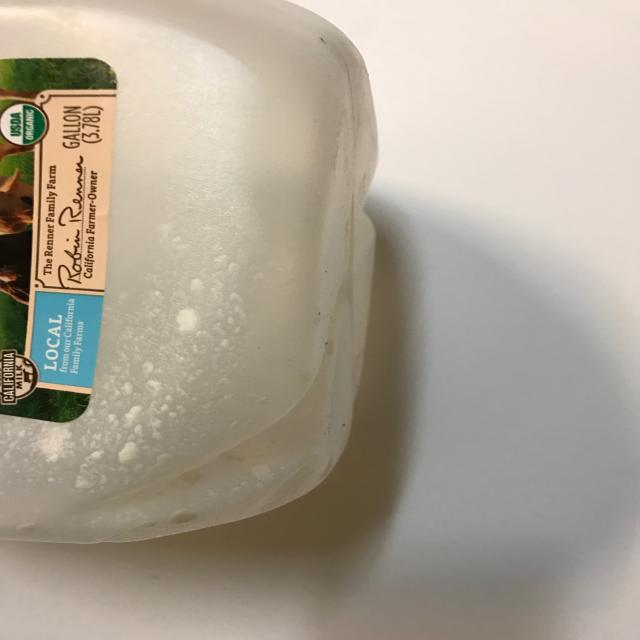plastic: (1, 0, 380, 544)
